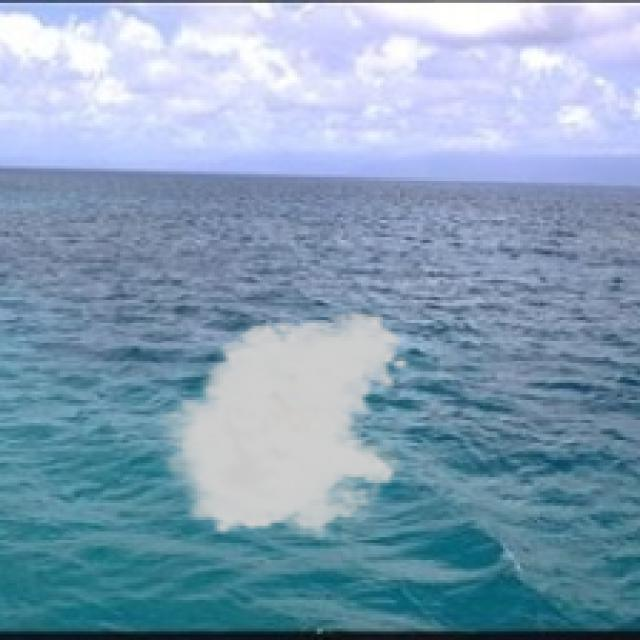Smoke: (152, 308, 412, 548)
